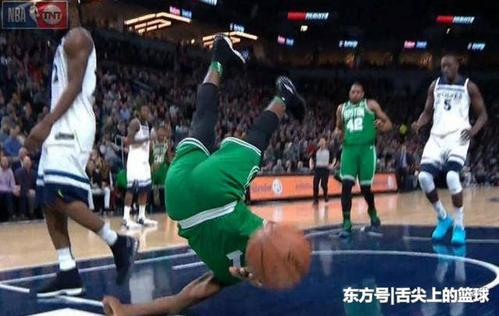10+: (1, 2, 498, 316)
down: (95, 31, 317, 315)
